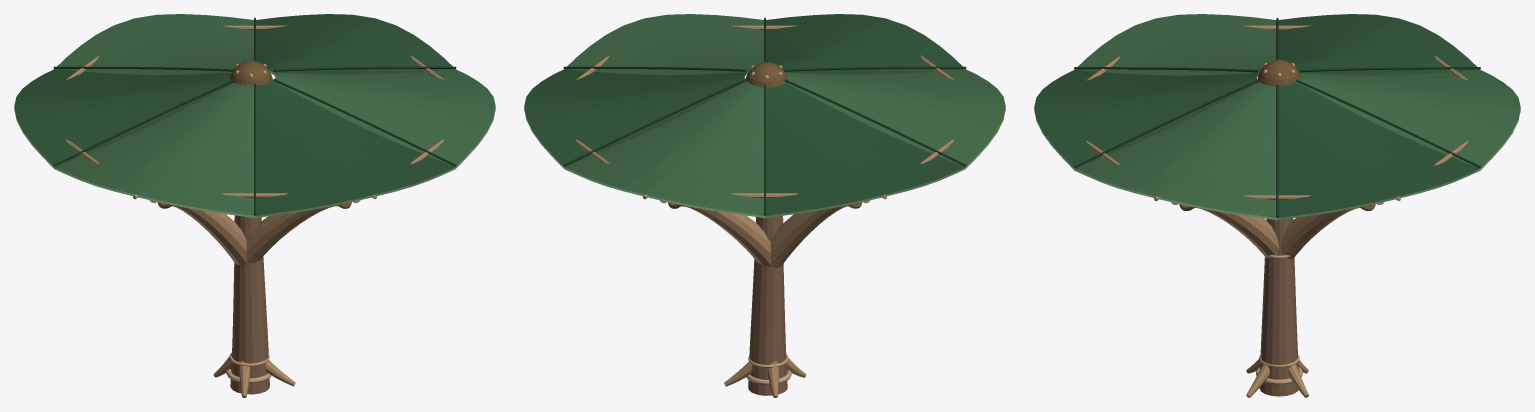
The model's file is fullfilm_v5_branch_canopy.glb.
3 renders of one model, left to right at view 1: azimuth 30°, elevation 25°; view 2: azimuth 150°, elevation 25°; view 3: azimuth 270°, elevation 25°, orthographic.
Parts seen in each view (by area): view 1: Sewn crown canvas panel 04, Sewn crown canvas panel 03, Sewn crown canvas panel 05, Sewn crown canvas panel 02, Sewn crown canvas panel 00, Sewn crown canvas panel 01, Trunk tapered main mast, Primary branch 02, Primary branch 01, Timber crown hub, Sewn radial canopy binding 05, Sewn radial canopy binding 03 (+2 smaller); view 2: Sewn crown canvas panel 01, Sewn crown canvas panel 02, Sewn crown canvas panel 00, Sewn crown canvas panel 03, Sewn crown canvas panel 05, Sewn crown canvas panel 04, Trunk tapered main mast, Primary branch 00, Primary branch 01, Timber crown hub, Sewn radial canopy binding 01, Sewn radial canopy binding 03 (+2 smaller); view 3: Sewn crown canvas panel 00, Sewn crown canvas panel 05, Sewn crown canvas panel 04, Sewn crown canvas panel 01, Sewn crown canvas panel 03, Sewn crown canvas panel 02, Trunk tapered main mast, Primary branch 02, Primary branch 00, Timber crown hub, Sewn radial canopy binding 01, Sewn radial canopy binding 05 (+2 smaller).
Part boxes in pixels (x1=…): Sewn crown canvas panel 04: x1=255, y1=81, x2=455, y2=217; Sewn crown canvas panel 03: x1=54, y1=83, x2=254, y2=217; Sewn crown canvas panel 05: x1=273, y1=69, x2=495, y2=168; Sewn crown canvas panel 02: x1=14, y1=69, x2=233, y2=168; Sewn crown canvas panel 00: x1=256, y1=14, x2=455, y2=74; Sewn crown canvas panel 01: x1=54, y1=14, x2=253, y2=74; Trunk tapered main mast: x1=230, y1=215, x2=269, y2=394; Primary branch 02: x1=244, y1=205, x2=338, y2=264; Primary branch 01: x1=172, y1=205, x2=248, y2=265; Timber crown hub: x1=230, y1=60, x2=272, y2=85; Sewn radial canopy binding 05: x1=273, y1=79, x2=456, y2=166; Sewn radial canopy binding 03: x1=53, y1=79, x2=235, y2=166; Sewn crown canvas panel 01: x1=564, y1=81, x2=764, y2=217; Sewn crown canvas panel 02: x1=765, y1=83, x2=965, y2=217; Sewn crown canvas panel 00: x1=524, y1=69, x2=746, y2=168; Sewn crown canvas panel 03: x1=785, y1=69, x2=1005, y2=168; Sewn crown canvas panel 05: x1=564, y1=14, x2=763, y2=74; Sewn crown canvas panel 04: x1=766, y1=14, x2=965, y2=74; Trunk tapered main mast: x1=748, y1=216, x2=787, y2=395; Primary branch 00: x1=681, y1=205, x2=772, y2=266; Primary branch 01: x1=769, y1=205, x2=848, y2=267; Timber crown hub: x1=745, y1=62, x2=787, y2=87; Sewn radial canopy binding 01: x1=563, y1=79, x2=746, y2=166; Sewn radial canopy binding 03: x1=784, y1=79, x2=966, y2=166; Sewn crown canvas panel 00: x1=1277, y1=82, x2=1479, y2=220; Sewn crown canvas panel 05: x1=1075, y1=82, x2=1277, y2=220; Sewn crown canvas panel 04: x1=1034, y1=69, x2=1259, y2=170; Sewn crown canvas panel 01: x1=1295, y1=69, x2=1520, y2=170; Sewn crown canvas panel 03: x1=1075, y1=14, x2=1276, y2=75; Sewn crown canvas panel 02: x1=1278, y1=14, x2=1479, y2=75; Trunk tapered main mast: x1=1259, y1=218, x2=1298, y2=396; Primary branch 02: x1=1194, y1=207, x2=1279, y2=258; Primary branch 00: x1=1280, y1=207, x2=1360, y2=258; Timber crown hub: x1=1257, y1=60, x2=1300, y2=85; Sewn radial canopy binding 01: x1=1296, y1=79, x2=1480, y2=168; Sewn radial canopy binding 05: x1=1074, y1=79, x2=1258, y2=168.
Size of the model in its own units: 3.6 by 2.77 by 3.74.
